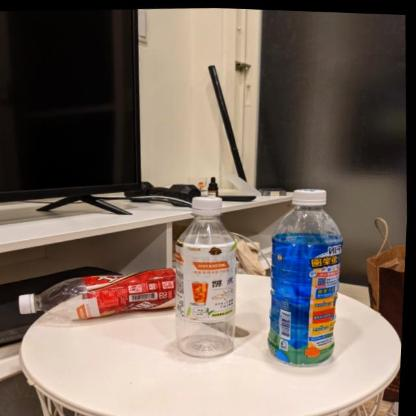Plastic Bottle: (267, 187, 343, 366), (172, 195, 238, 357), (18, 267, 176, 321)
